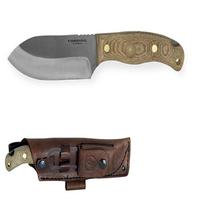knife: (6, 29, 189, 88)
